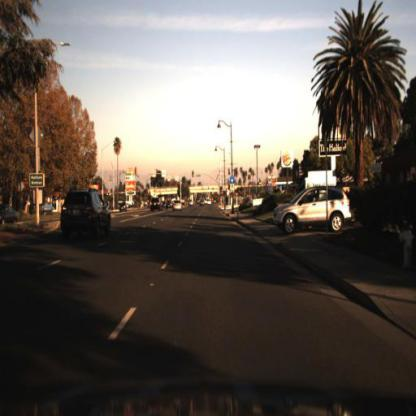car: (271, 185, 352, 236), (58, 185, 115, 245), (172, 197, 184, 213), (151, 197, 163, 211), (173, 197, 183, 213), (147, 195, 159, 208)
